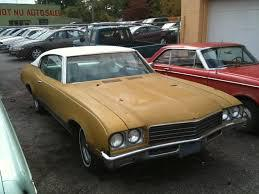bonnet-dent: (85, 76, 193, 122)
